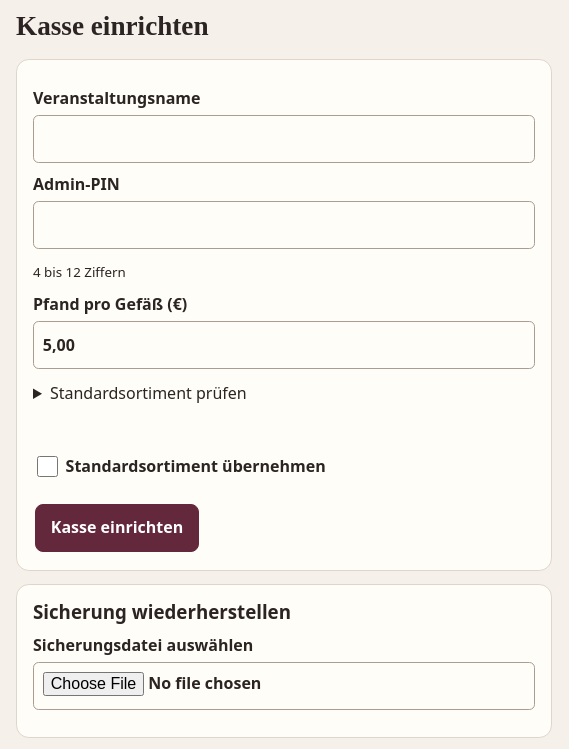
Test case: verlangt einen gültigen Veranstaltungsnamen, eine PIN, Pfand und ein bestätigtes Sortiment
The image size is (569, 749).
Expected: the field labelled "Pfand pro Gefäß (€)" holds "5,00", [33, 321, 535, 369]
Click the button "Kasse einrichten" at (117,528), box [35, 504, 199, 552]
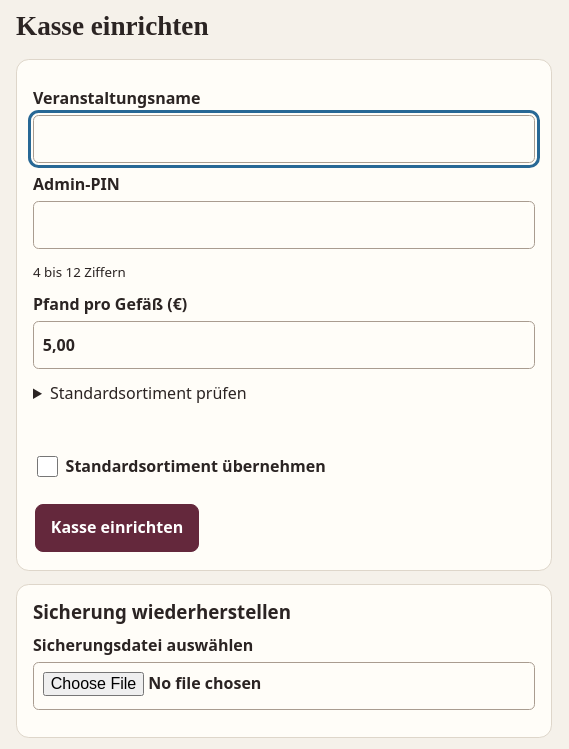
Type "Probe" into the field labelled "Veranstaltungsname" at (284,139), box [33, 115, 535, 163]
Type "123" into the password field labelled "Admin-PIN" at (284,225), box [33, 201, 535, 249]
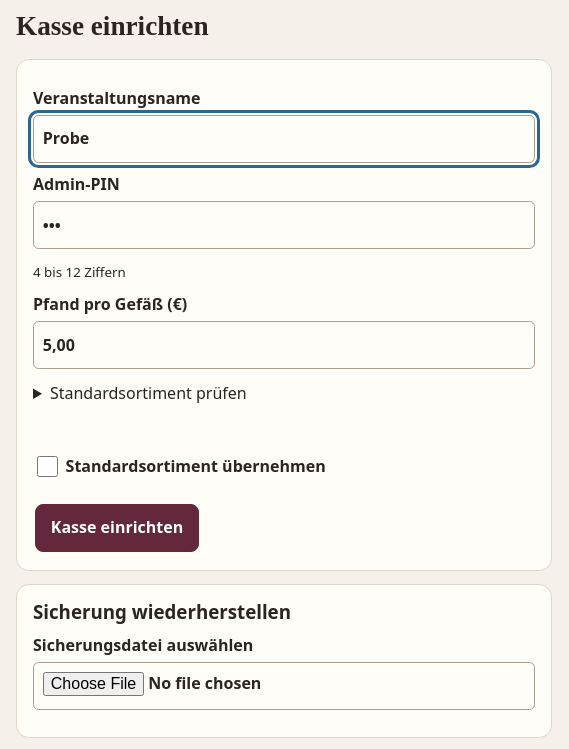
Type "1234" into the password field labelled "Admin-PIN" at (284,225), box [33, 201, 535, 249]
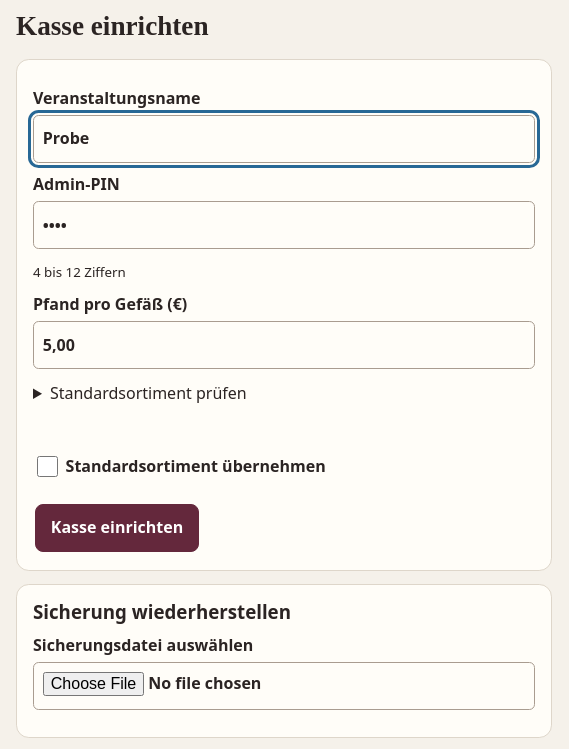
Click the checkbox labelled "Standardsortiment übernehmen" at (47,467), box [37, 456, 58, 477]
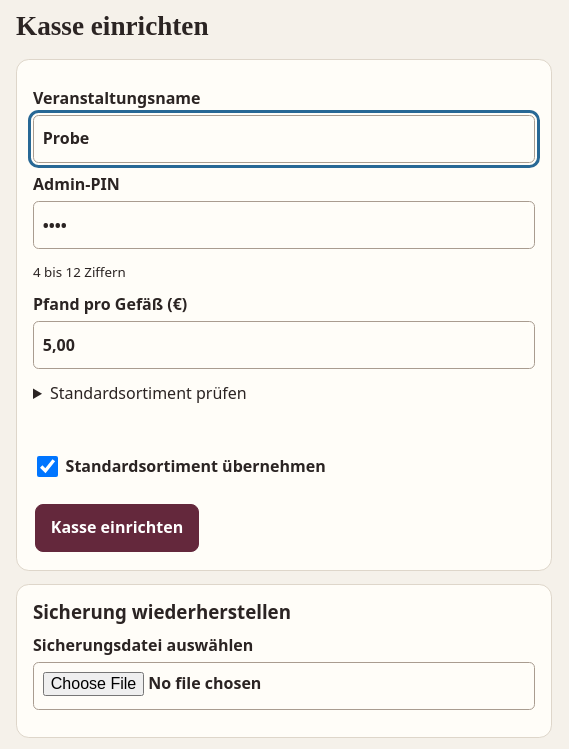
Replace the text in the field labelled "Pfand pro Gefäß (€)" with "-1" at (284,345), box [33, 321, 535, 369]
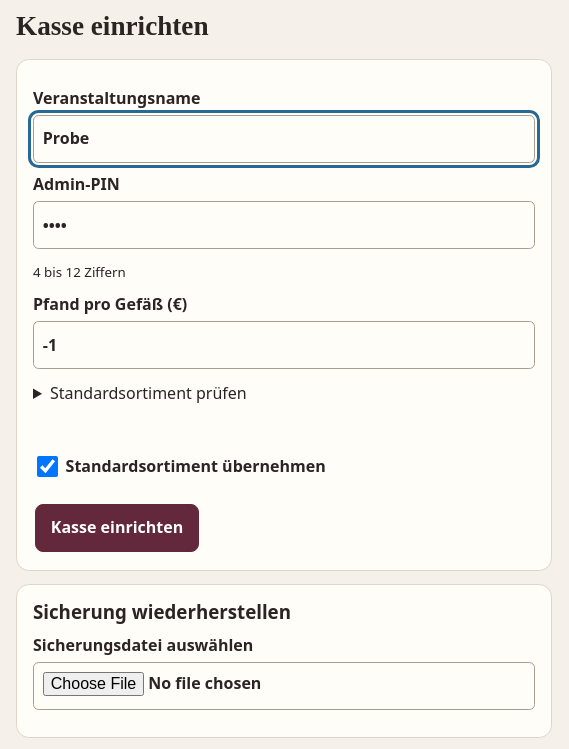
Click the button "Kasse einrichten" at (117,528), box [35, 504, 199, 552]
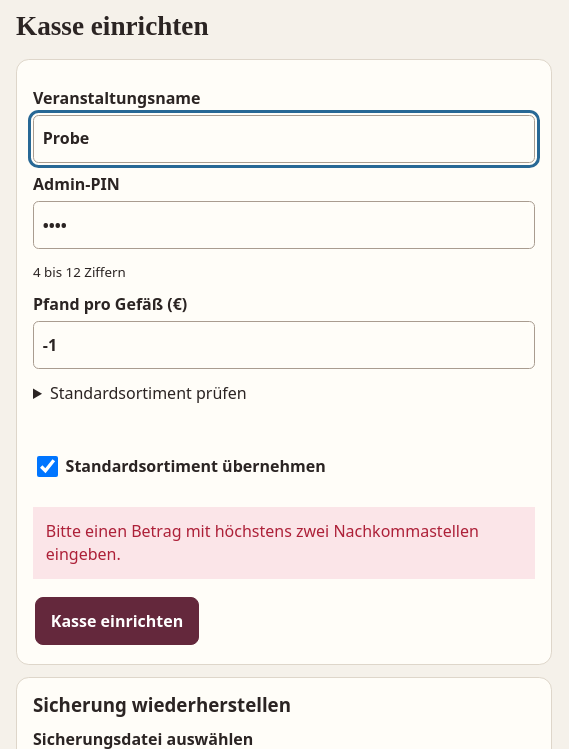
Result: the message shows "Betrag" at [46, 520, 479, 565]
